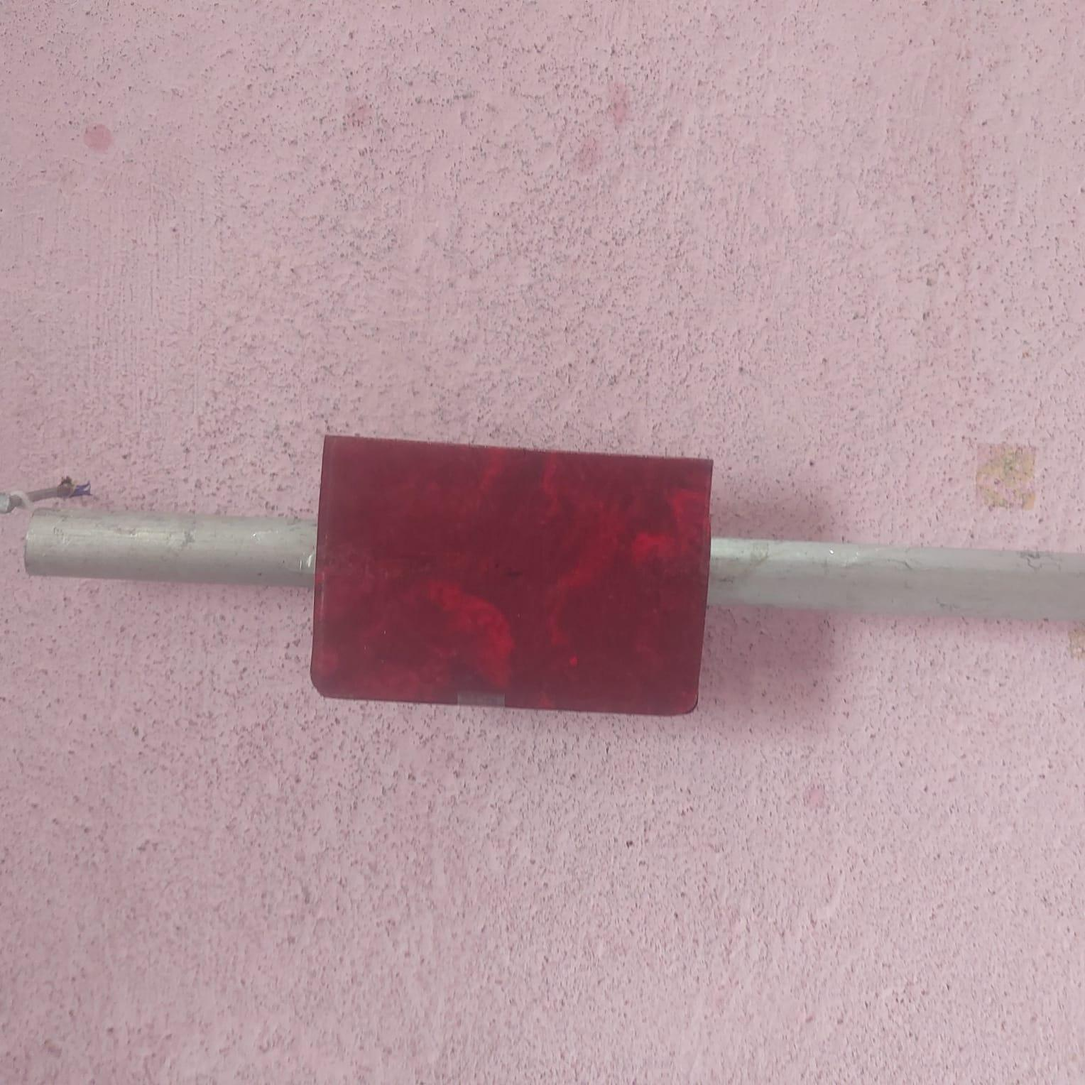wallet: (309, 431, 710, 715)
